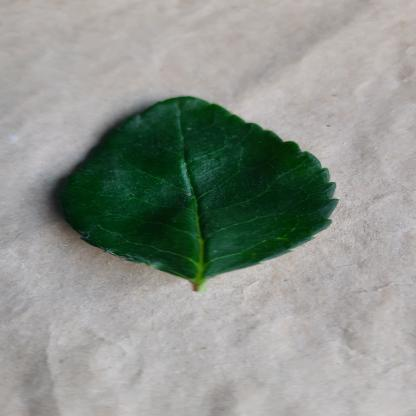normal: (43, 96, 350, 281)
